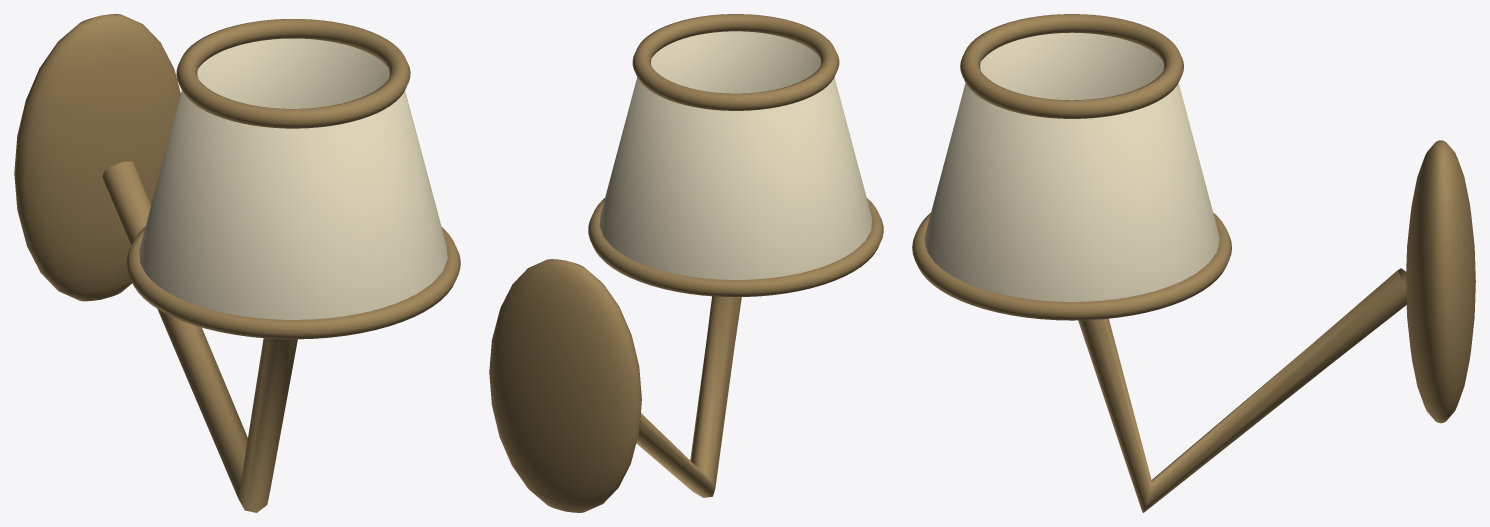
Rendered from Wall_Sconce.fbx.
3 views of the same model, side by side, from view 1: azimuth 30°, elevation 25°; view 2: azimuth 150°, elevation 25°; view 3: azimuth 270°, elevation 25° (orthographic). The views are drawn at different scales.
Visible parts, largest first — view 1: Open lampshade.011, Backplate.001, Sconce arm.001, Shade trim.022, Shade trim.001; view 2: Open lampshade.011, Backplate.001, Shade trim.022, Sconce arm.001, Shade trim.001; view 3: Open lampshade.011, Backplate.001, Sconce arm.001, Shade trim.022, Shade trim.001.
Boxes of the visible parts, box(x1,y1,x2,y2) form: Open lampshade.011: box(139, 38, 447, 319); Backplate.001: box(14, 14, 180, 301); Sconce arm.001: box(102, 161, 297, 512); Shade trim.022: box(176, 19, 410, 128); Shade trim.001: box(126, 227, 460, 339); Open lampshade.011: box(599, 31, 872, 279); Backplate.001: box(489, 259, 641, 512); Shade trim.022: box(632, 14, 839, 110); Sconce arm.001: box(636, 296, 741, 497); Shade trim.001: box(588, 198, 883, 297); Open lampshade.011: box(924, 32, 1219, 301); Backplate.001: box(1406, 140, 1475, 423); Sconce arm.001: box(1078, 268, 1407, 512); Shade trim.022: box(960, 14, 1183, 118); Shade trim.001: box(912, 212, 1231, 320).
Bounding box in the file's own units: 0.256 × 0.4014 × 0.451.
